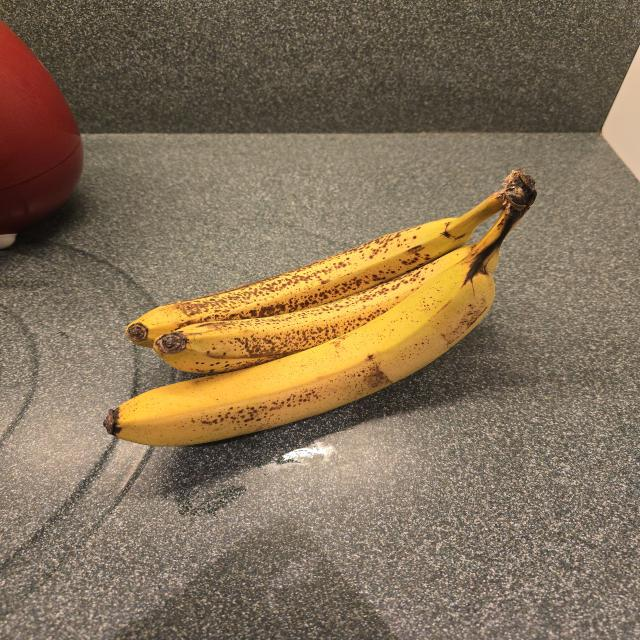Banana: (116, 182, 536, 445), (128, 190, 505, 347), (155, 246, 470, 373)
